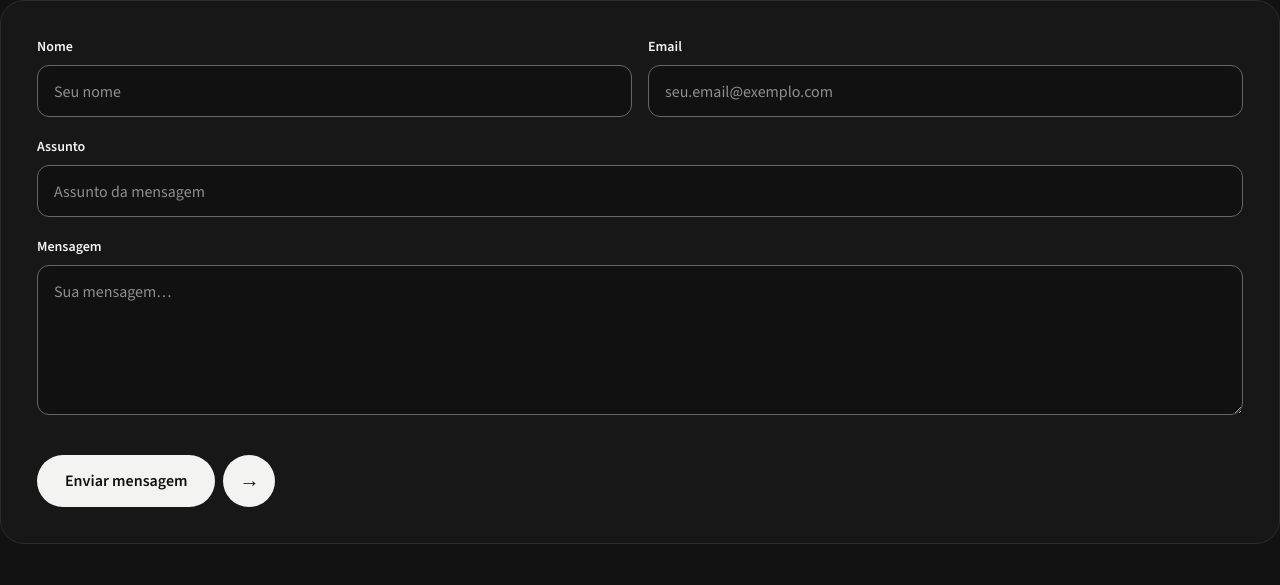
it: <ContactForm /> › explains the failure and offers the email when EmailJS rejects (CONT-04)
The width and height of the screenshot is (1280, 585).
In the field labelled "Nome": (334, 91) [37,65,632,117], type "Bruno"
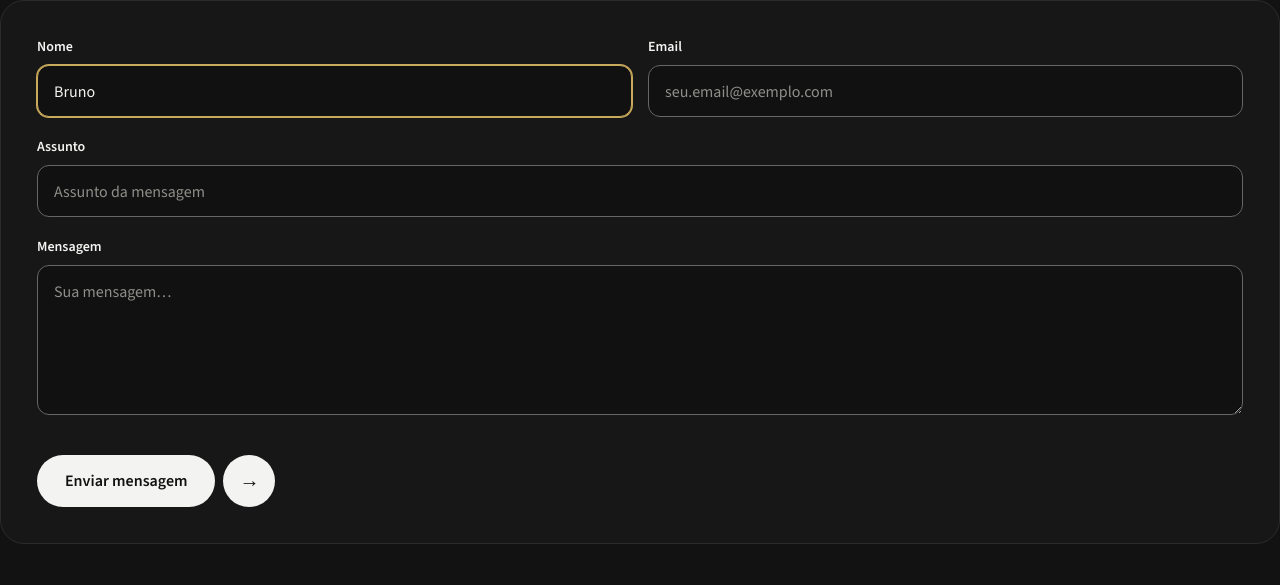
In the field labelled "Email": (946, 91) [648,65,1243,117], type "bruno@example.com"
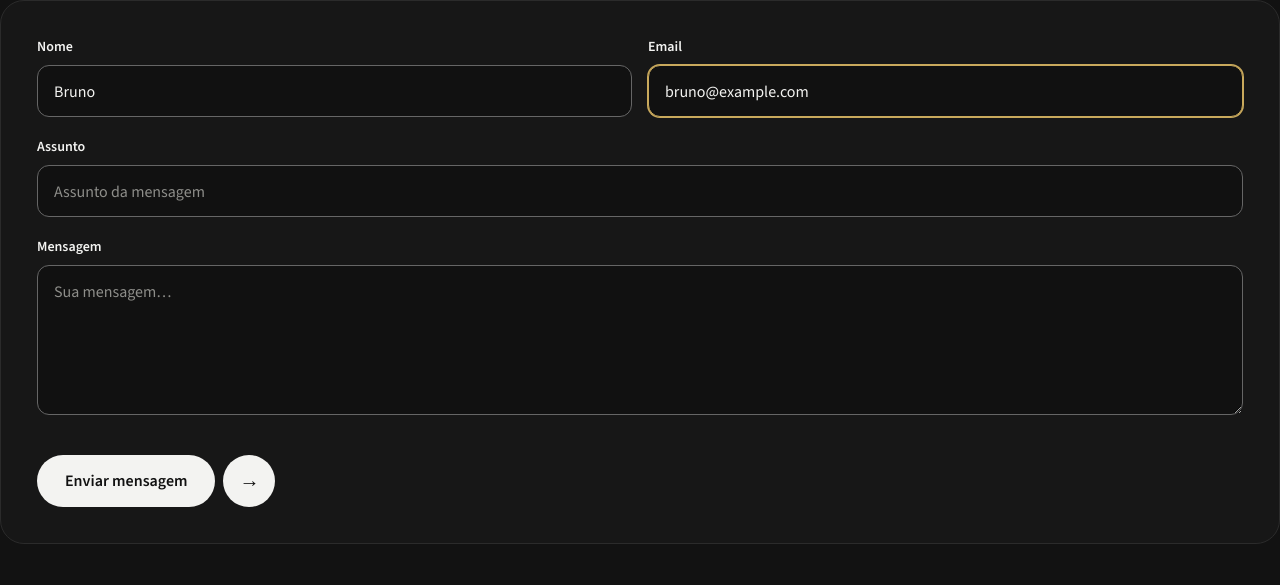
In the field labelled "Assunto": (640, 191) [37,165,1243,217], type "Hello"
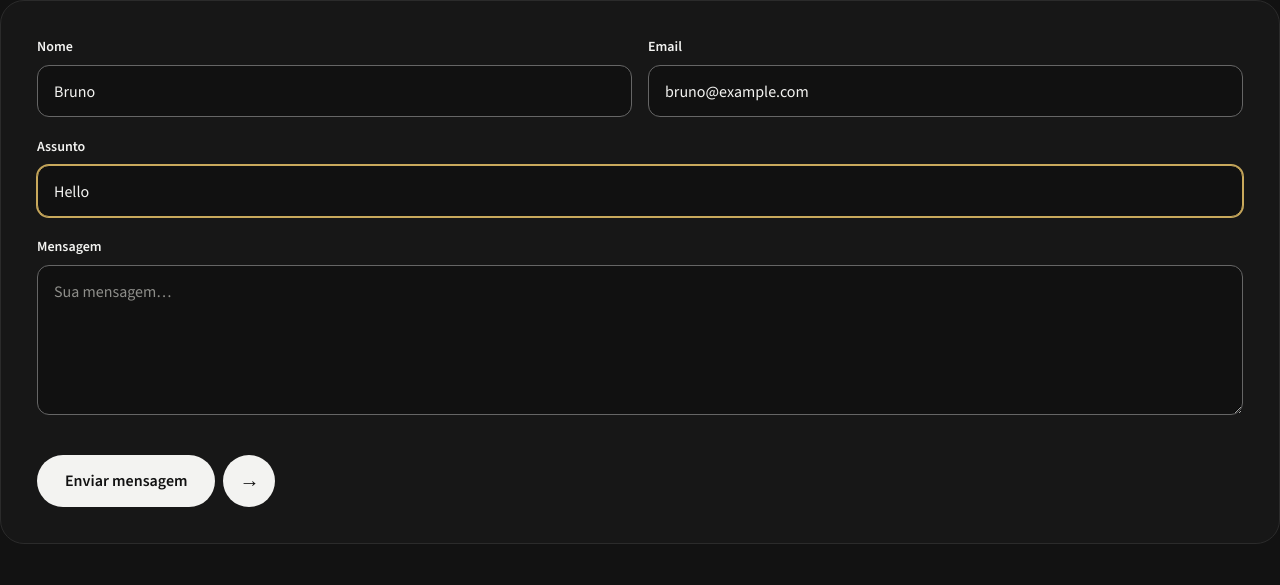
In the text box labelled "Mensagem": (640, 340) [37,265,1243,415], type "Mensagem de teste"
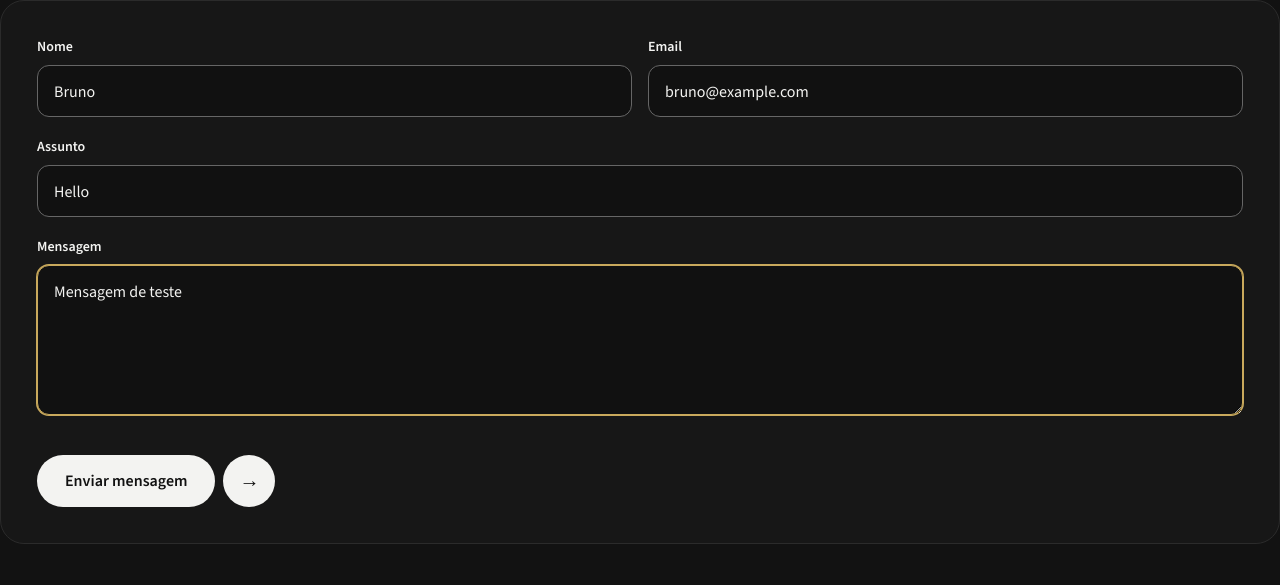
Click the button "Enviar mensagem →": click(156, 481) [37,455,276,507]
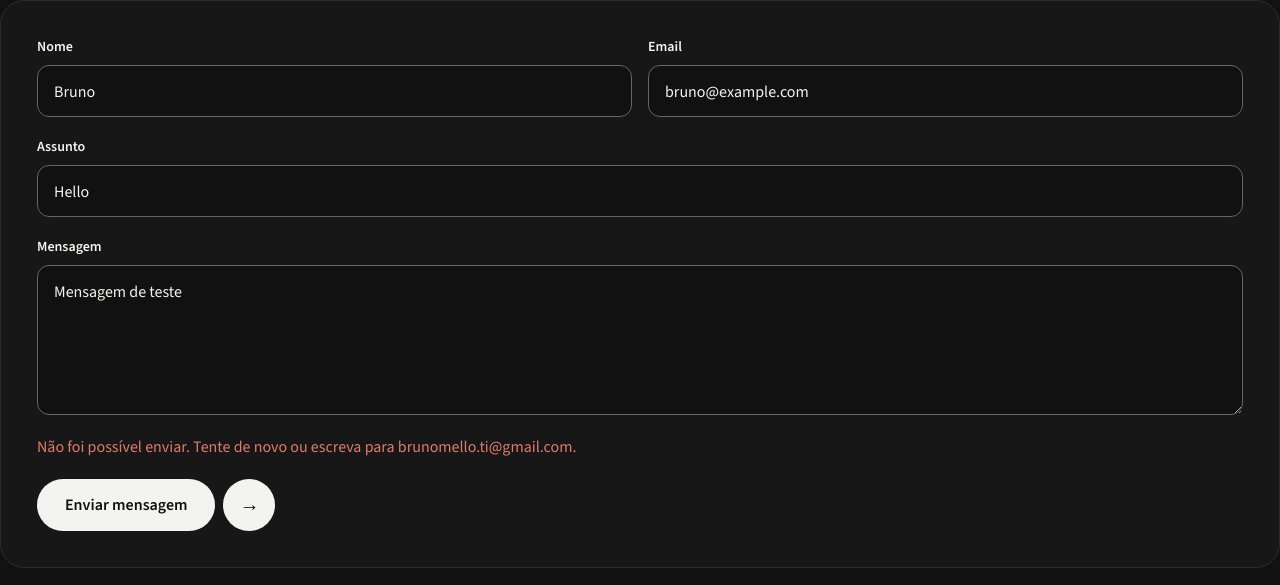
Now the message reads "Não foi possível enviar. Tente de novo ou escreva para brunomello.ti@gmail.com.", box [37,436,576,457]
